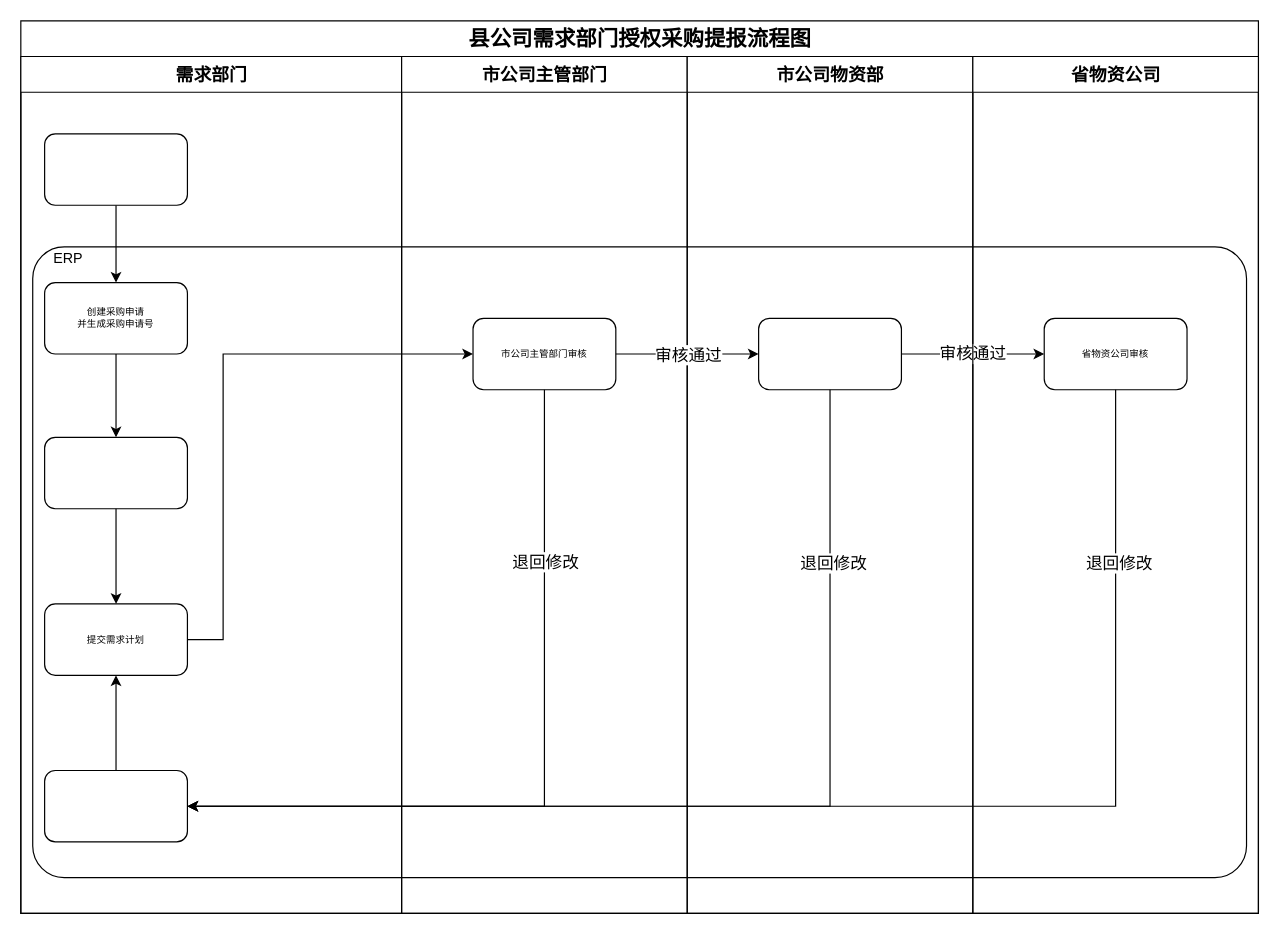
The diagram is 1279 pixels wide and 934 high, and some of its shapes have lost their labels. Each missing label, with the centre of its shape:
"ECP2.0单体项目挂接技术规范书并生成技术规范书ID" belongs at point 115,169.
"修改相关内容" belongs at point 115,805.
"市公司物资部审核" belongs at point 829,353.
"维护技术规范书ID" belongs at point 115,472.
